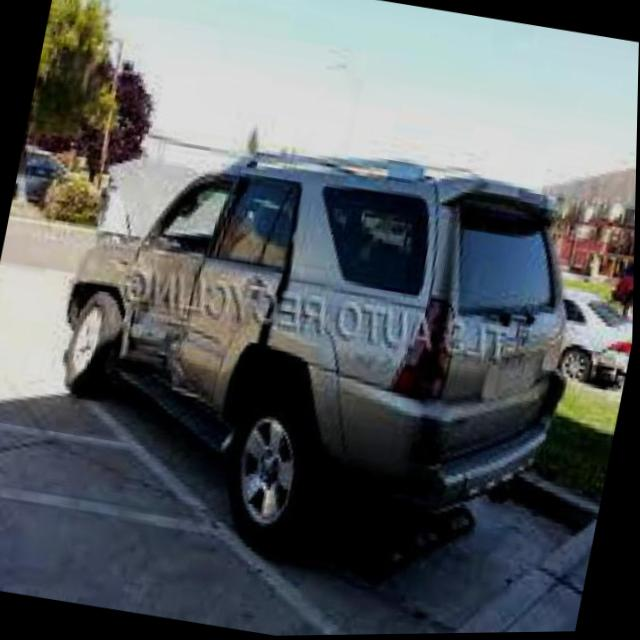Car-Damage: (48, 146, 258, 420)
